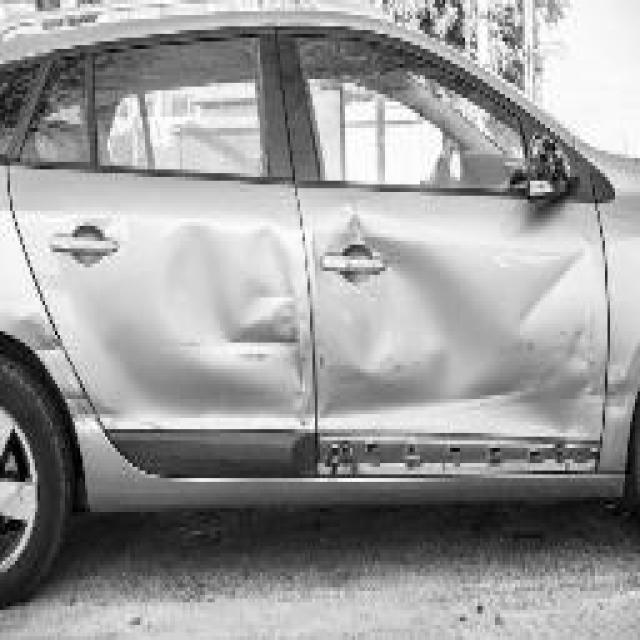Door: (305, 196, 610, 478), (125, 211, 315, 448)
